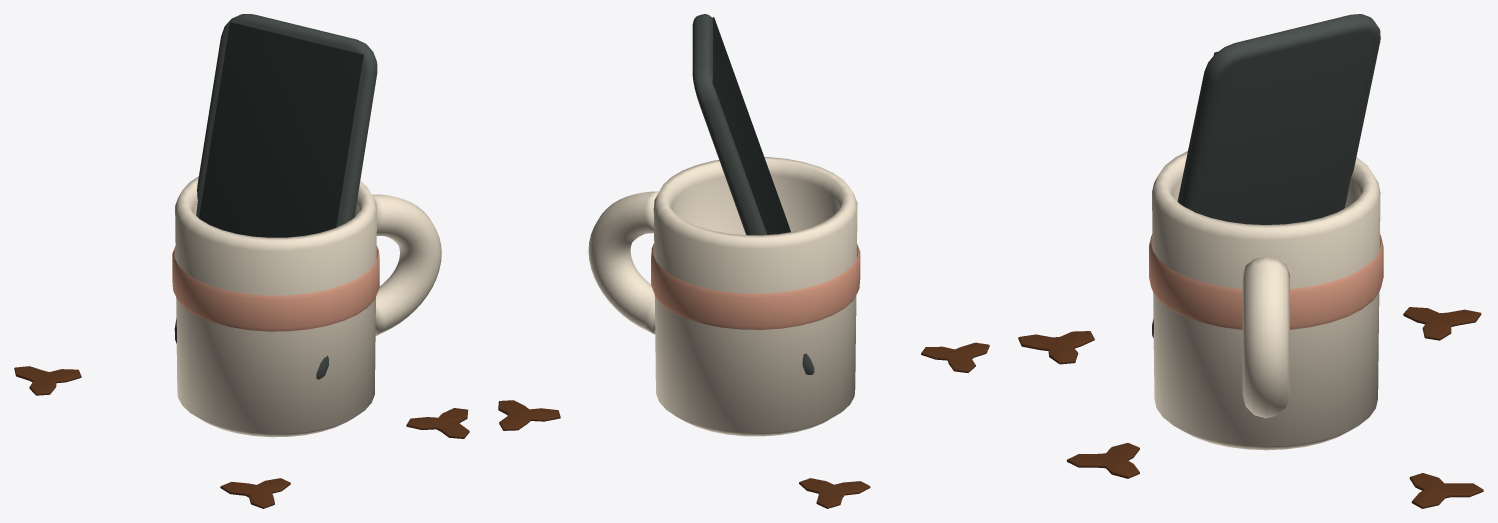
The model's file is mug.glb.
3 views of the same model, side by side, from view 1: azimuth 30°, elevation 25°; view 2: azimuth 150°, elevation 25°; view 3: azimuth 270°, elevation 25° (orthographic). The views are drawn at different scales.
Parts seen in each view (by area): view 1: Body, ScreenDark, BodyBand, Case, BodyHandle, Splat1, Splat2, Splat0; view 2: Body, BodyBand, BodyHandle, Case, ScreenDark, Splat2, Splat3, Splat1; view 3: Body, Case, BodyBand, BodyHandle, Splat3, Splat2, Splat1, Splat0.
Part boxes in pixels (x1,y1,x2,y2): Body: (175, 176, 376, 437); ScreenDark: (199, 22, 363, 237); BodyBand: (172, 246, 379, 331); Case: (174, 14, 377, 379); BodyHandle: (372, 194, 441, 335); Splat1: (220, 478, 290, 508); Splat2: (14, 366, 81, 395); Splat0: (406, 408, 469, 438); Body: (653, 157, 857, 436); BodyBand: (651, 243, 860, 329); BodyHandle: (588, 191, 658, 334); Case: (692, 14, 814, 374); ScreenDark: (712, 17, 790, 234); Splat2: (799, 478, 870, 508); Splat3: (498, 400, 560, 430); Splat1: (921, 342, 989, 372); Body: (1152, 151, 1380, 450); Case: (1152, 14, 1380, 337); BodyBand: (1149, 234, 1383, 329); BodyHandle: (1242, 256, 1289, 418); Splat3: (1409, 473, 1483, 508); Splat2: (1403, 307, 1481, 340); Splat1: (1018, 331, 1094, 364); Splat0: (1066, 443, 1139, 478).
Bounding box in the file's own units: 0.1903 × 0.1775 × 0.1873.
